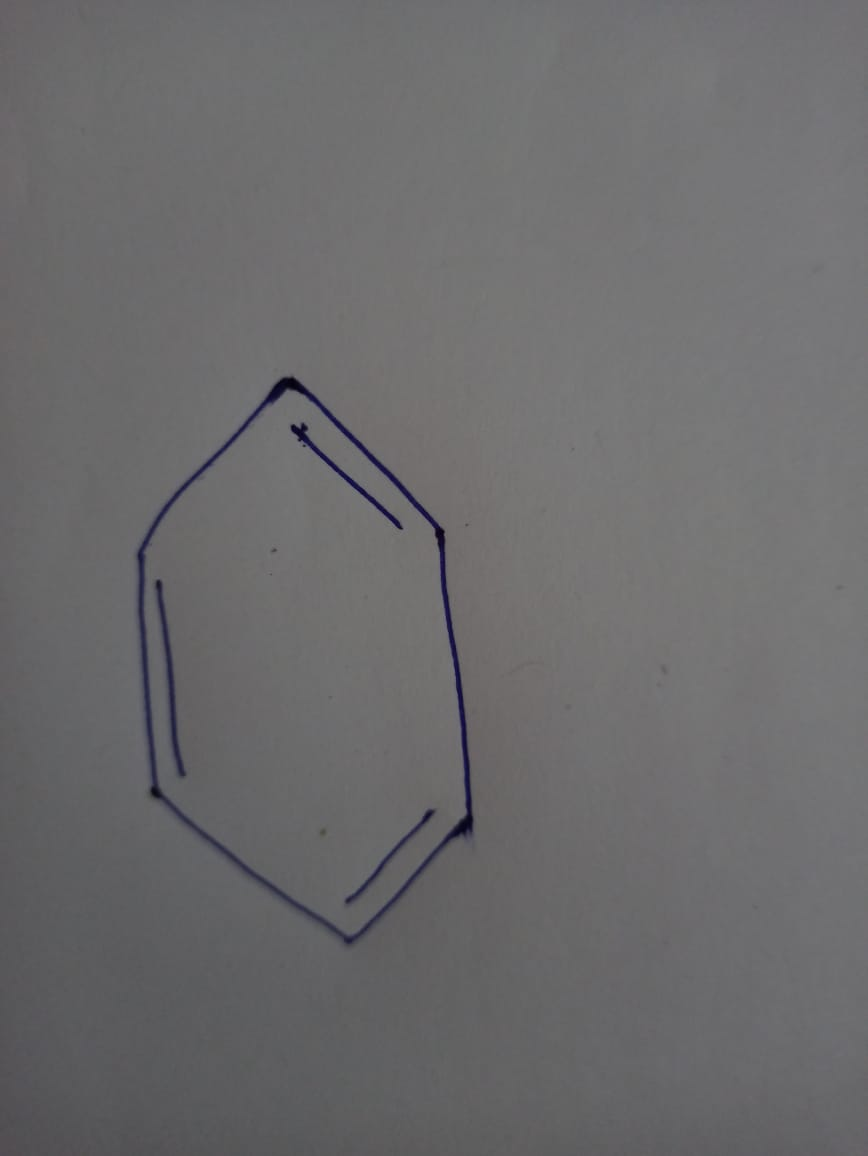shape_mask: (105, 360, 494, 955)
